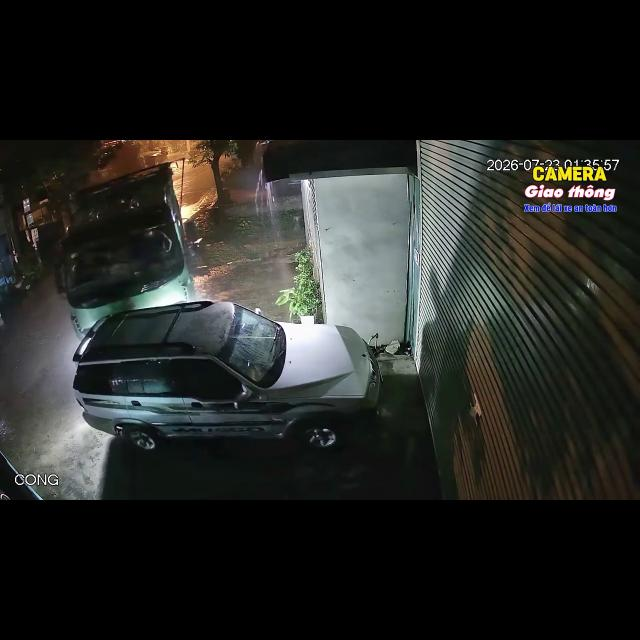car: (73, 301, 381, 449)
truck: (57, 161, 195, 335)
